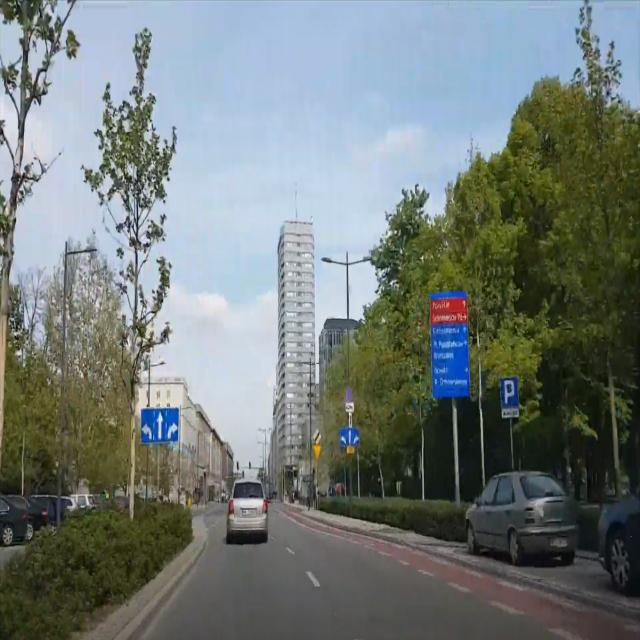Ustap pierwszenstwa: (312, 444, 321, 460)
Zakaz zatrzymywania sie: (345, 384, 354, 402)
